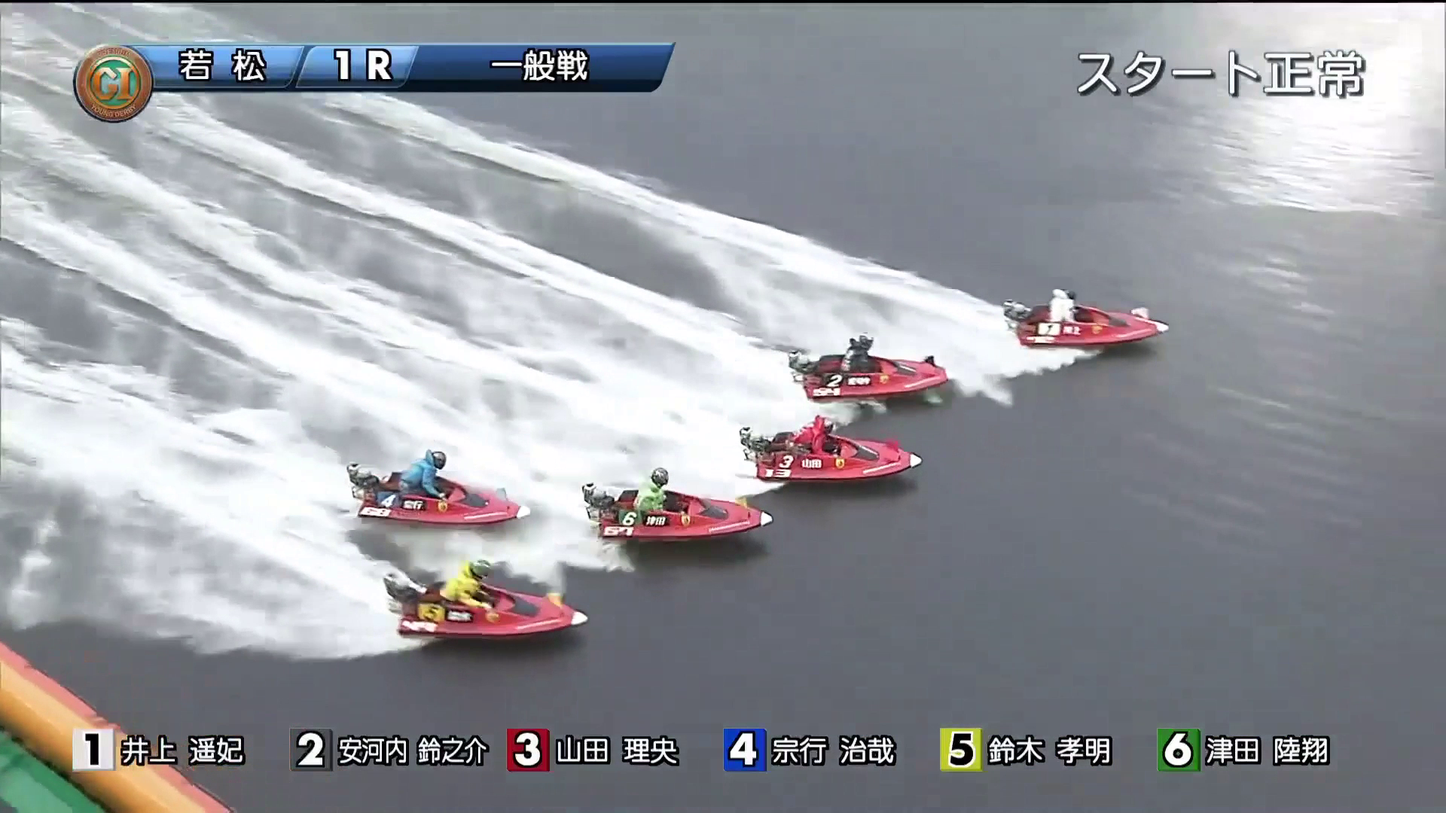１号艇: (1017, 300, 1155, 353)
２号艇: (800, 342, 928, 402)
３号艇: (782, 429, 923, 474)
４号艇: (613, 484, 733, 549)
５号艇: (365, 477, 489, 532)
６号艇: (473, 591, 572, 647)
